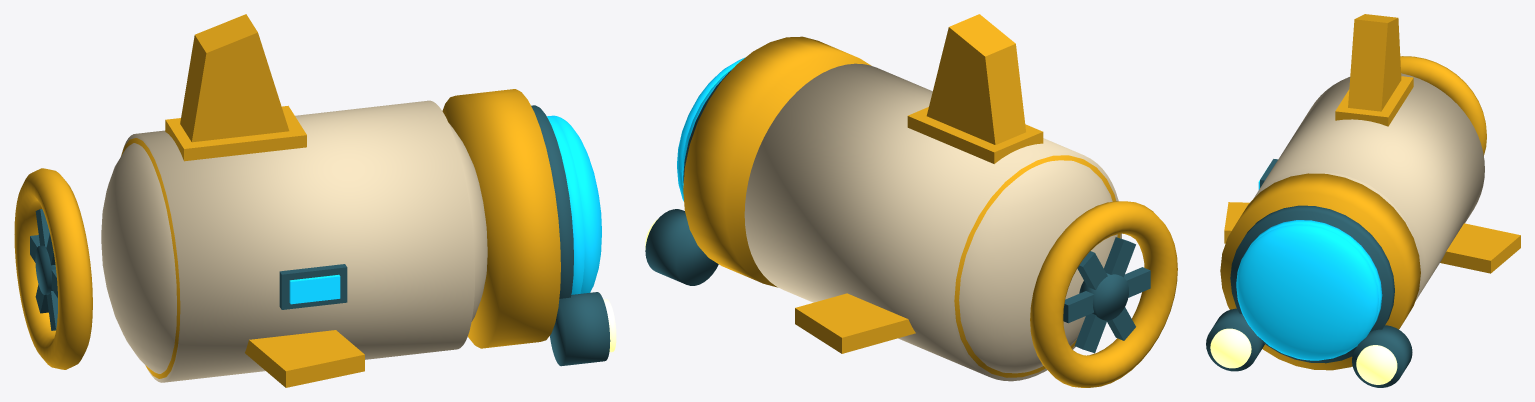
File: submarine.glb
The picture shows the model from 3 angles, left to right: view 1: azimuth 30°, elevation 25°; view 2: azimuth 150°, elevation 25°; view 3: azimuth 270°, elevation 25°; orthographic projection. The views are drawn at different scales.
Visible parts, largest first — view 1: Submarine main hull, Nose rim, Rounded stern, Open propeller ring, Swept dorsal fin, Side fin, Lamp housing, Top fin pedestal, Domed glass, Window frame, Rounded bow, Cyan window (+5 smaller); view 2: Submarine main hull, Rounded stern, Nose rim, Open propeller ring, Swept dorsal fin, Side fin.001, Lamp housing.001, Top fin pedestal, Rear golden hull band, Propeller blade.001, Propeller hub, Propeller blade (+2 smaller); view 3: Submarine main hull, Domed glass, Nose rim, Swept dorsal fin, Window frame, Side fin.001, Open propeller ring, Lamp housing.001, Top fin pedestal, Lamp lens, Lamp lens.001, Lamp housing (+3 smaller).
Boxes of the visible parts, left/top/right/bottom form: Submarine main hull: left=121, top=100, right=474, bottom=382; Nose rim: left=442, top=89, right=560, bottom=348; Rounded stern: left=101, top=143, right=176, bottom=373; Open propeller ring: left=14, top=168, right=92, bottom=369; Swept dorsal fin: left=180, top=14, right=289, bottom=142; Side fin: left=245, top=330, right=364, bottom=387; Lamp housing: left=550, top=292, right=610, bottom=366; Top fin pedestal: left=165, top=105, right=306, bottom=161; Domed glass: left=551, top=115, right=601, bottom=293; Window frame: left=531, top=105, right=573, bottom=298; Rounded bow: left=449, top=123, right=487, bottom=321; Cyan window: left=547, top=116, right=584, bottom=294; Submarine main hull: left=744, top=63, right=1121, bottom=381; Rounded stern: left=959, top=160, right=1117, bottom=373; Nose rim: left=683, top=36, right=871, bottom=287; Open propeller ring: left=1030, top=201, right=1177, bottom=387; Swept dorsal fin: left=926, top=14, right=1025, bottom=144; Side fin.001: left=795, top=293, right=915, bottom=353; Lamp housing.001: left=645, top=209, right=718, bottom=285; Top fin pedestal: left=907, top=107, right=1043, bottom=163; Rear golden hull band: left=954, top=155, right=1120, bottom=377; Propeller blade.001: left=1074, top=237, right=1135, bottom=353; Propeller hub: left=1079, top=273, right=1128, bottom=320; Propeller blade: left=1063, top=267, right=1150, bottom=323; Submarine main hull: left=1253, top=73, right=1484, bottom=301; Domed glass: left=1236, top=224, right=1378, bottom=360; Nose rim: left=1220, top=173, right=1420, bottom=370; Swept dorsal fin: left=1348, top=14, right=1401, bottom=111; Window frame: left=1230, top=205, right=1394, bottom=363; Side fin.001: left=1440, top=223, right=1520, bottom=273; Open propeller ring: left=1400, top=56, right=1486, bottom=155; Lamp housing.001: left=1352, top=325, right=1412, bottom=387; Top fin pedestal: left=1335, top=76, right=1413, bottom=126; Lamp lens: left=1210, top=328, right=1251, bottom=368; Lamp lens.001: left=1356, top=345, right=1397, bottom=384; Lamp housing: left=1206, top=308, right=1264, bottom=371.
Bounding box in the file's own units: 3.66 × 2.27 × 2.5.
